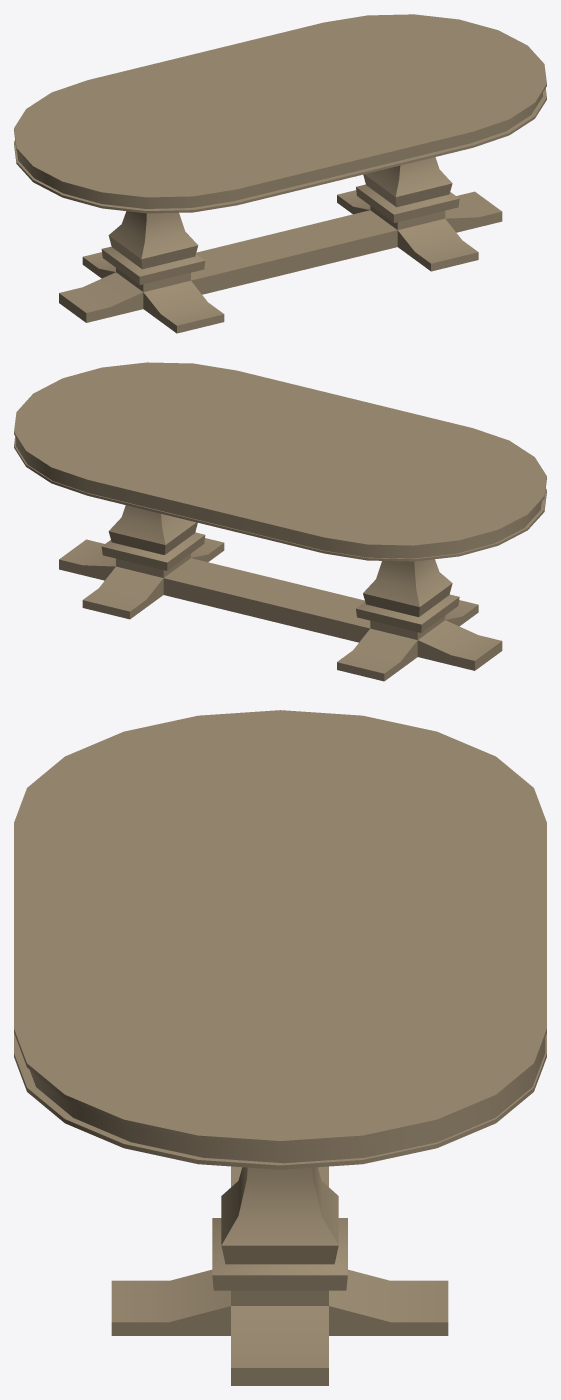
File: table_large.glb
The picture shows the model from 3 angles, top to bottom: view 1: azimuth 30°, elevation 25°; view 2: azimuth 150°, elevation 25°; view 3: azimuth 270°, elevation 25°; orthographic projection. The views are drawn at different scales.
Visible parts, largest first — view 1: Table_RoundLarge; view 2: Table_RoundLarge; view 3: Table_RoundLarge.
Boxes of the visible parts, bbox=[...] form: Table_RoundLarge: bbox=[14, 14, 546, 333]; Table_RoundLarge: bbox=[14, 362, 546, 681]; Table_RoundLarge: bbox=[14, 710, 546, 1385].
Size of the model in its own units: 3.71 by 1.12 by 1.94.
